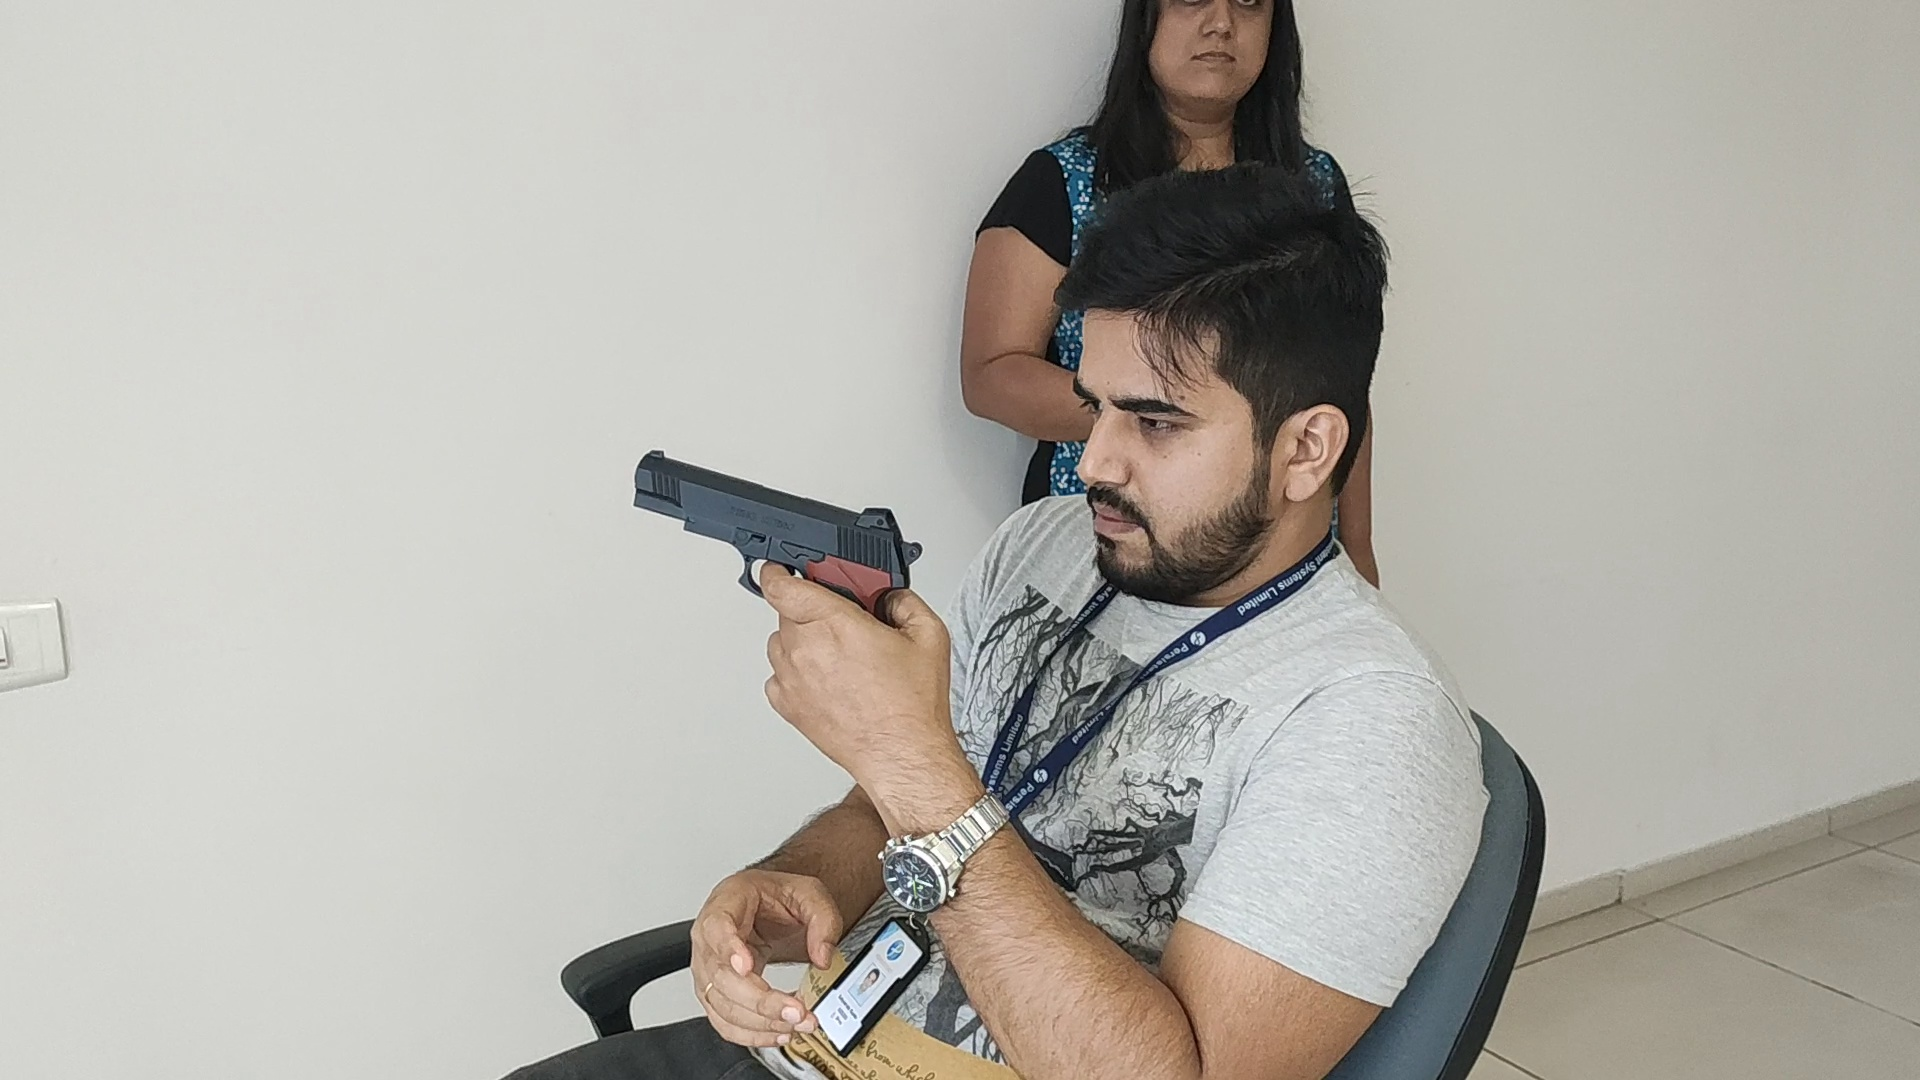gun: (632, 448, 924, 587)
